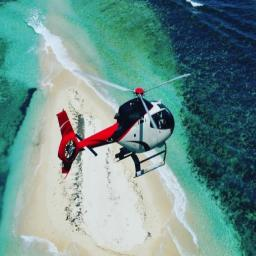helicopter: (56, 63, 193, 182)
